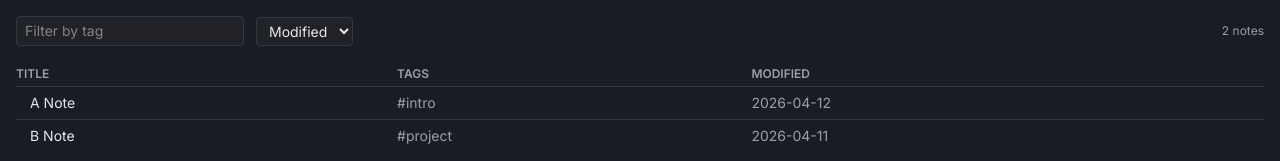
NotesList › filter by tag narrows the list
expect the text "A Note" is shown: met, box [16,86,397,120]
Step 1. Type "intro" into the field with placeholder "Filter by tag" → (130, 31), box [16,16,244,46]
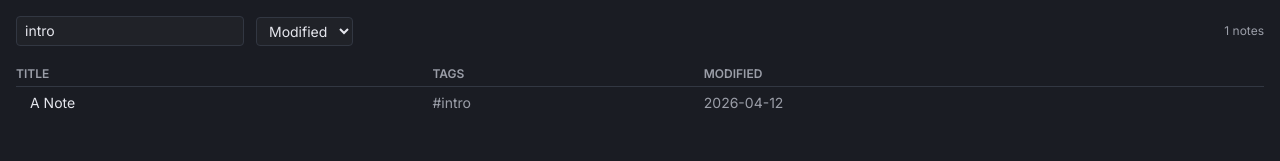
expect the text "A Note" is shown: met, box [16,86,432,119]
expect the text "B Note" is gone: met
